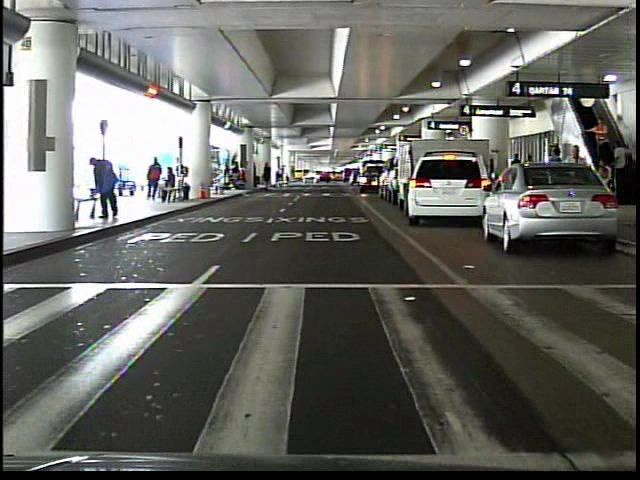person: (89, 152, 124, 224), (585, 116, 612, 167), (610, 138, 630, 192), (213, 166, 228, 200), (276, 162, 290, 190)
